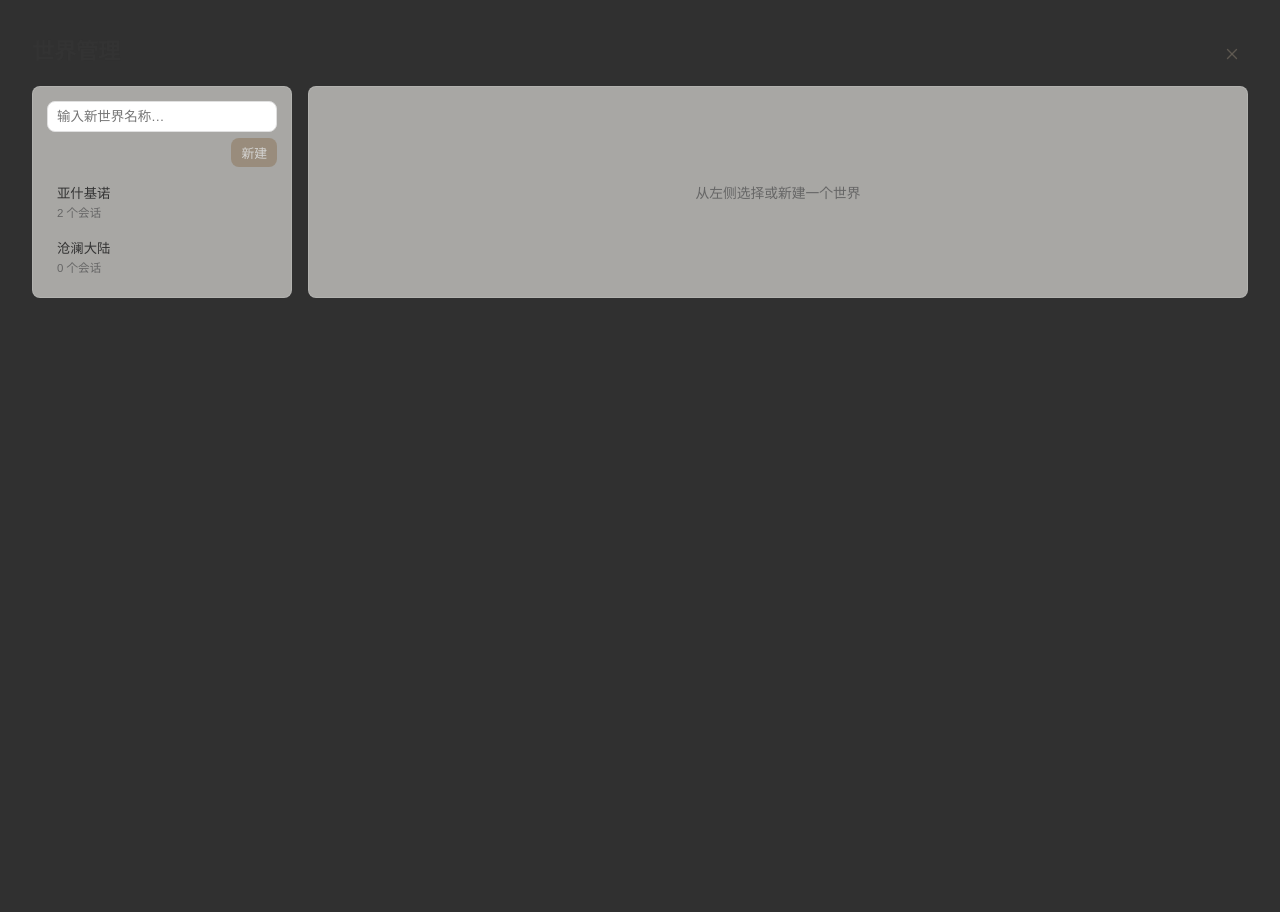
Test: WorldManagerSection › 删除遇 409 冲突（地图未处理）时提示数量，不从列表移除
Click the button with class "wm-list-item" showing "亚什基诺 2 个会话" at x=162, y=202, box [47,175,277,228]
(page scrolled)
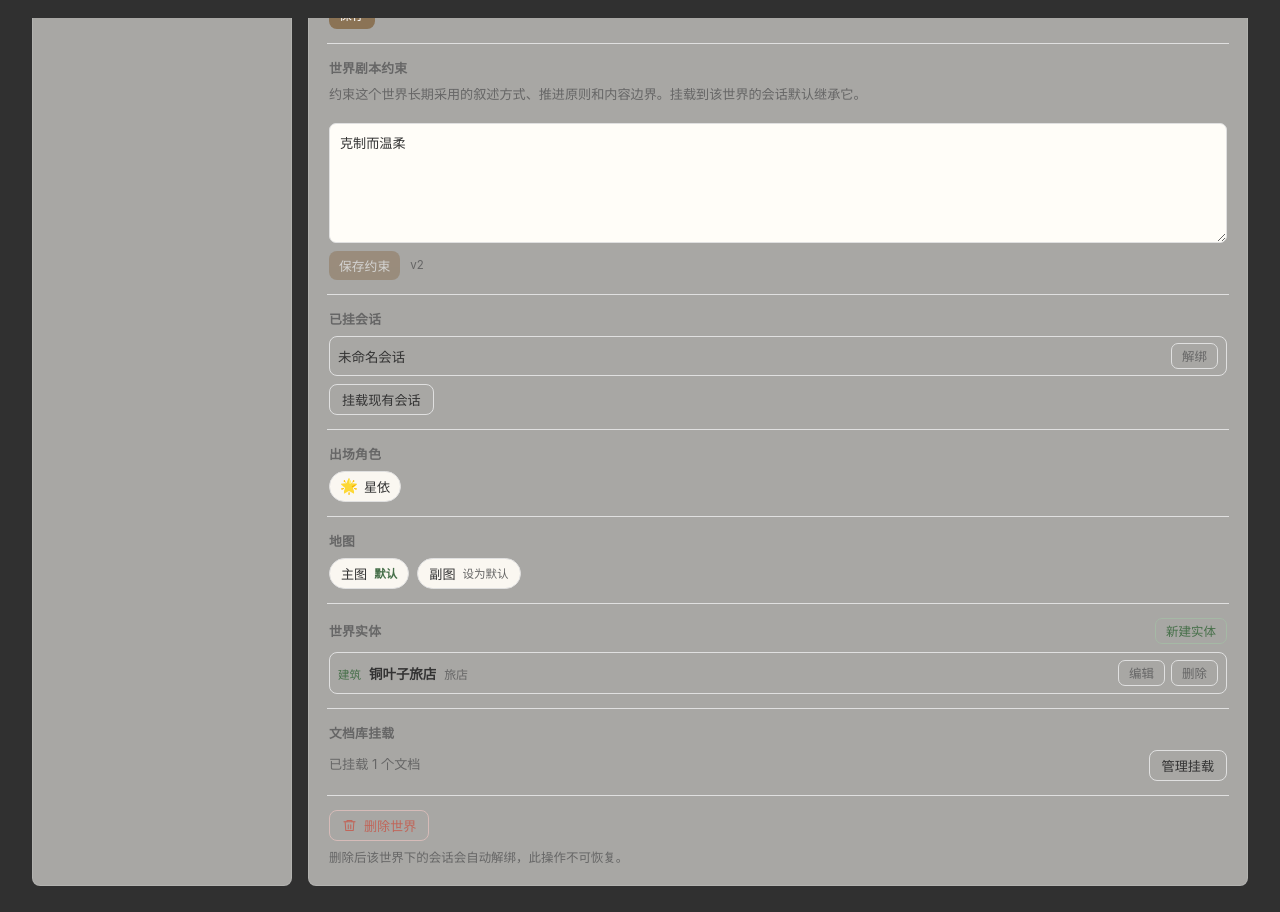
Click the button with class "wm-delete-btn" at x=379, y=825, box [329,810,430,841]
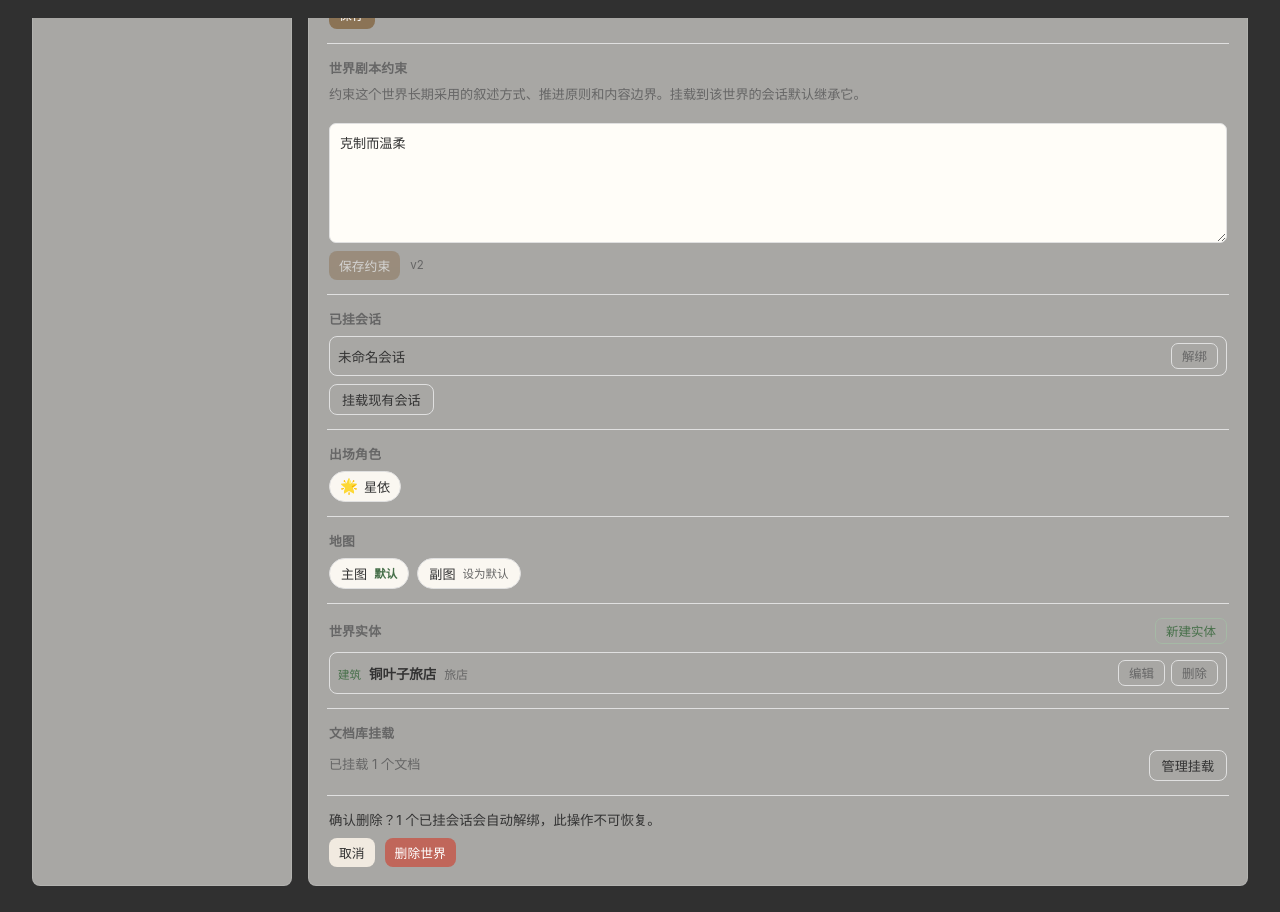
Click the button with class "wm-delete-confirm-btn" at x=420, y=852, box [385,838,456,867]
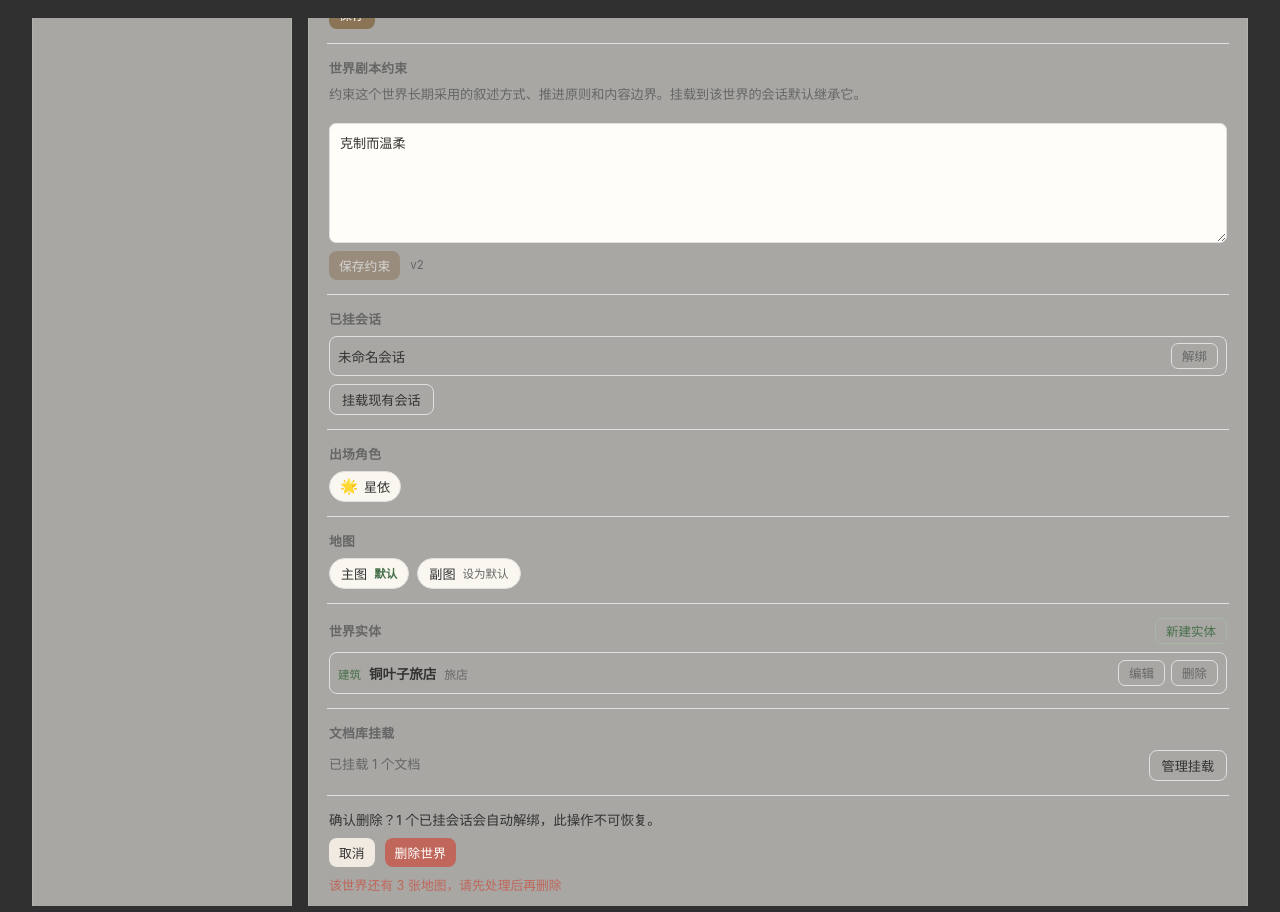
Expected: the text with class "wm-inline-error" shows "3", [329,878,562,893]
